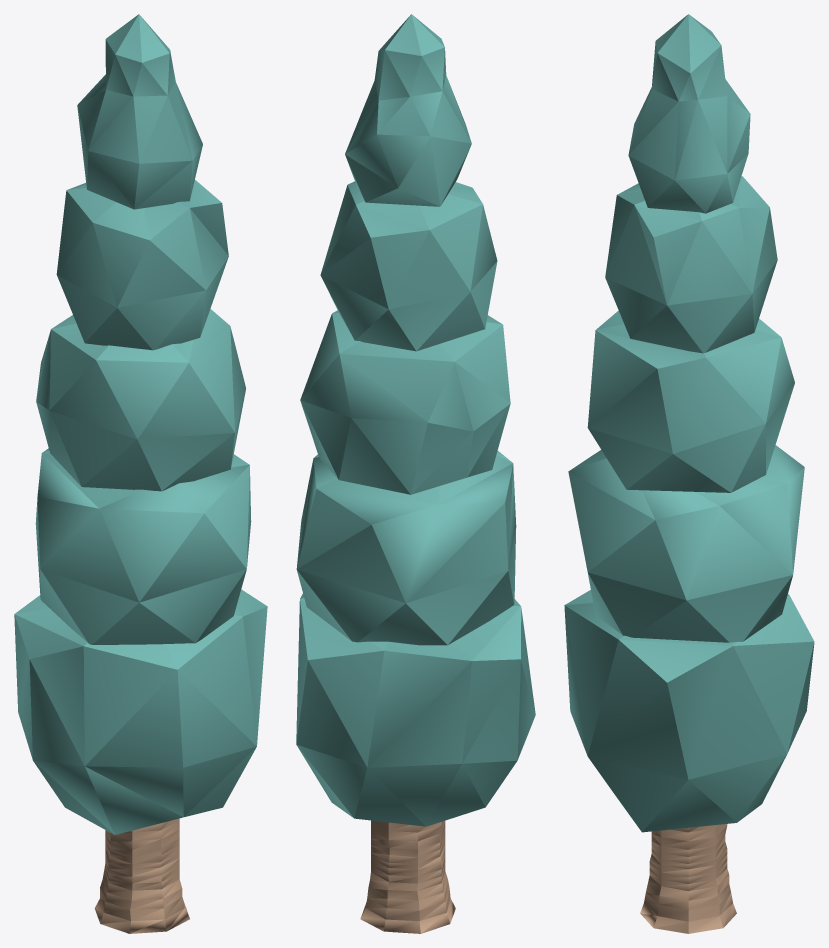
Rendered from cypress.glb.
3 renders of one model, left to right at view 1: azimuth 30°, elevation 25°; view 2: azimuth 150°, elevation 25°; view 3: azimuth 270°, elevation 25°, orthographic.
Parts seen in each view (by area): view 1: tripo_node_008c28c4-726f-4fc2-8a3b-9fb3f1de4edd; view 2: tripo_node_008c28c4-726f-4fc2-8a3b-9fb3f1de4edd; view 3: tripo_node_008c28c4-726f-4fc2-8a3b-9fb3f1de4edd.
Boxes of the visible parts, bbox=[...] form: tripo_node_008c28c4-726f-4fc2-8a3b-9fb3f1de4edd: bbox=[14, 14, 267, 933]; tripo_node_008c28c4-726f-4fc2-8a3b-9fb3f1de4edd: bbox=[296, 14, 535, 933]; tripo_node_008c28c4-726f-4fc2-8a3b-9fb3f1de4edd: bbox=[564, 14, 814, 933].
Size of the model in its own units: 0.2637 by 0.998 by 0.252.
